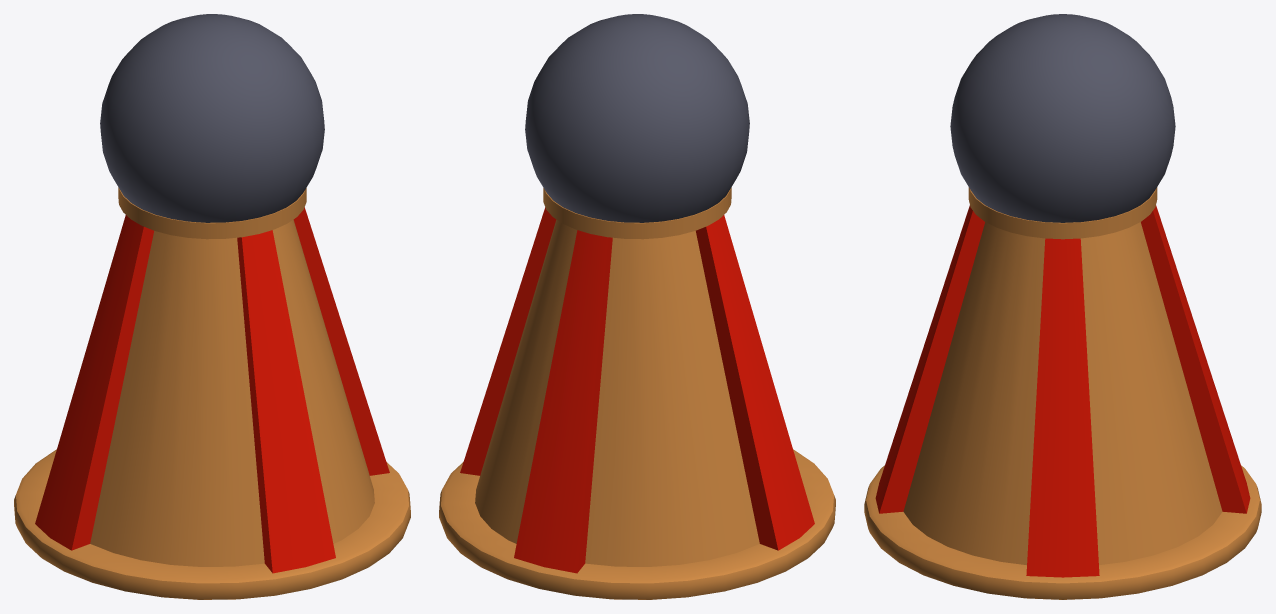
Rendered from RobotKiller.fbx.
3 renders of one model, left to right at view 1: azimuth 30°, elevation 25°; view 2: azimuth 150°, elevation 25°; view 3: azimuth 270°, elevation 25°, orthographic.
Parts seen in each view (by area): view 1: RobotKiller; view 2: RobotKiller; view 3: RobotKiller.
Boxes of the visible parts, x1,y1,x2,y2 form: RobotKiller: (14, 14, 410, 599); RobotKiller: (439, 14, 835, 599); RobotKiller: (864, 14, 1261, 599).
Bounding box in the file's own units: 110 × 152 × 110.
